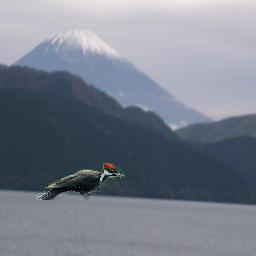Woodpecker: (36, 163, 125, 200)
